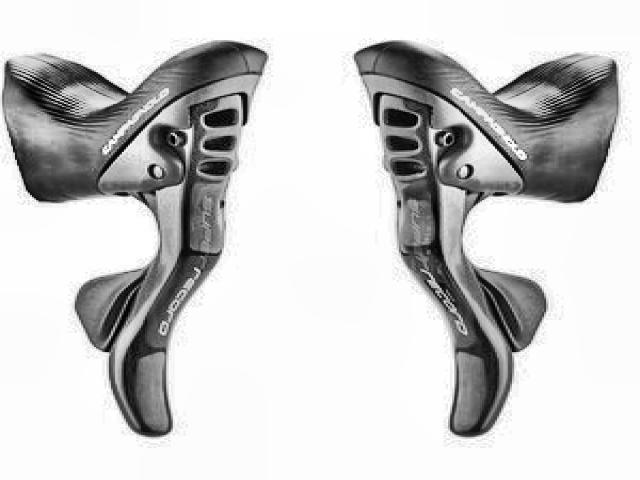sti_shifter: (352, 38, 622, 444), (8, 35, 270, 443)
